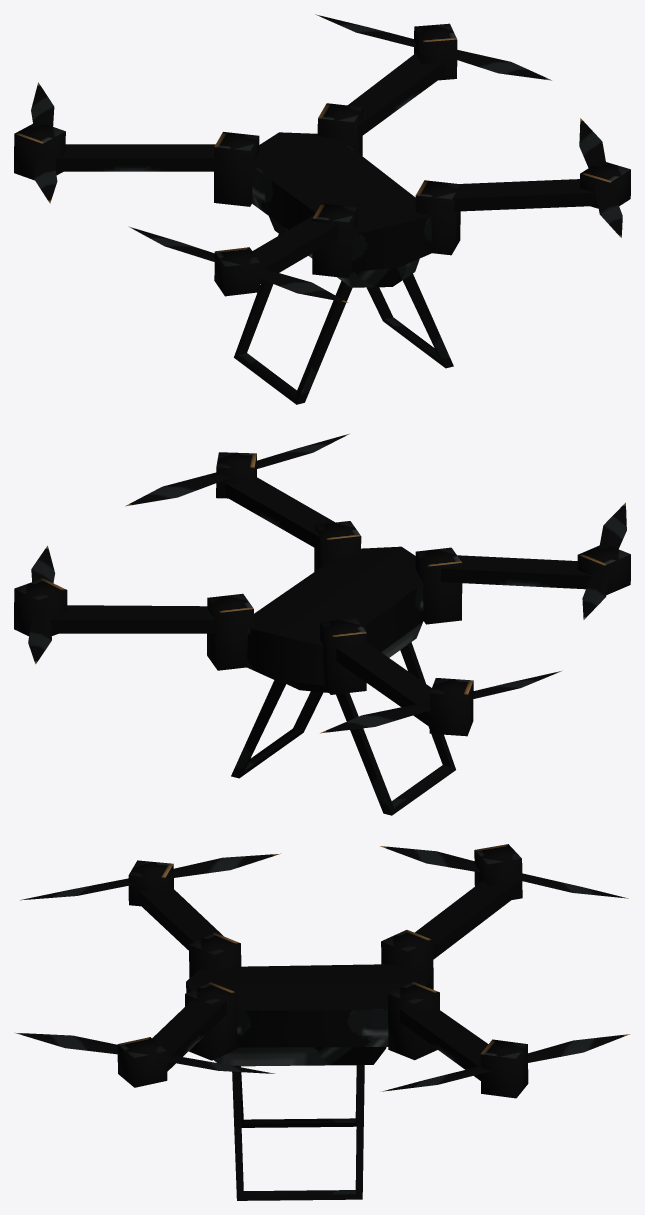
The model's file is delivery_drone.obj.
3 renders of one model, top to bottom at view 1: azimuth 30°, elevation 25°; view 2: azimuth 150°, elevation 25°; view 3: azimuth 270°, elevation 25°, orthographic. The views are drawn at different scales.
Parts seen in each view (by area): view 1: PickUP_UAV_LOD0; view 2: PickUP_UAV_LOD0; view 3: PickUP_UAV_LOD0.
Part boxes in pixels (left/top/right/bottom): PickUP_UAV_LOD0: left=14, top=14, right=630, bottom=404; PickUP_UAV_LOD0: left=14, top=433, right=630, bottom=815; PickUP_UAV_LOD0: left=14, top=844, right=629, bottom=1200.
Bounding box in the file's own units: 8.43 × 3.33 × 8.93.
